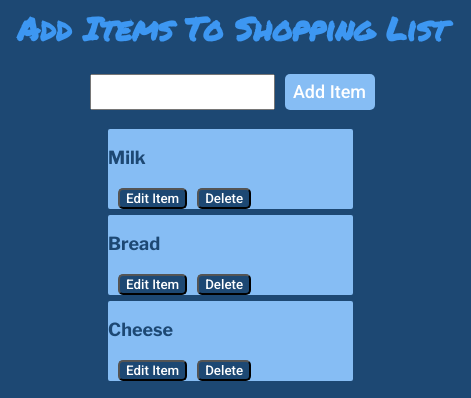
Test case: should delete an item
Click the button "Delete" below "Bread" at [224, 284], box [197, 274, 251, 295]
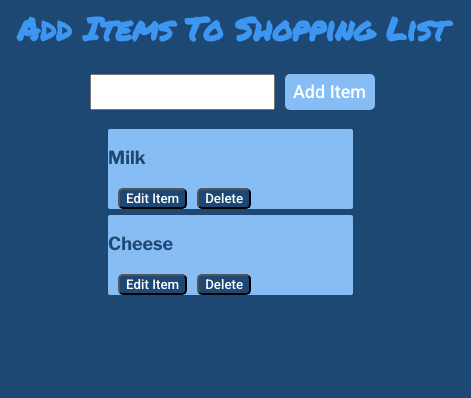
Now the text "Bread" is gone
